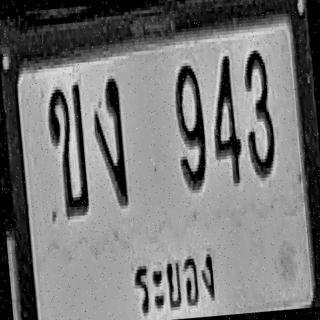A02: (45, 81, 90, 217)
A07: (90, 75, 129, 207)
N03: (240, 46, 278, 179)
N04: (207, 52, 243, 184)
N09: (172, 62, 209, 191)
P53: (125, 237, 220, 320)
